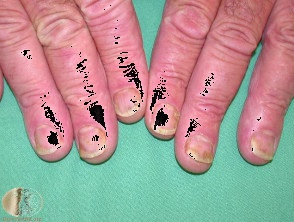Nail_psoriasis: (72, 123, 116, 168), (180, 137, 219, 167), (242, 132, 276, 165), (113, 83, 143, 116), (29, 130, 58, 161), (165, 102, 182, 129)
